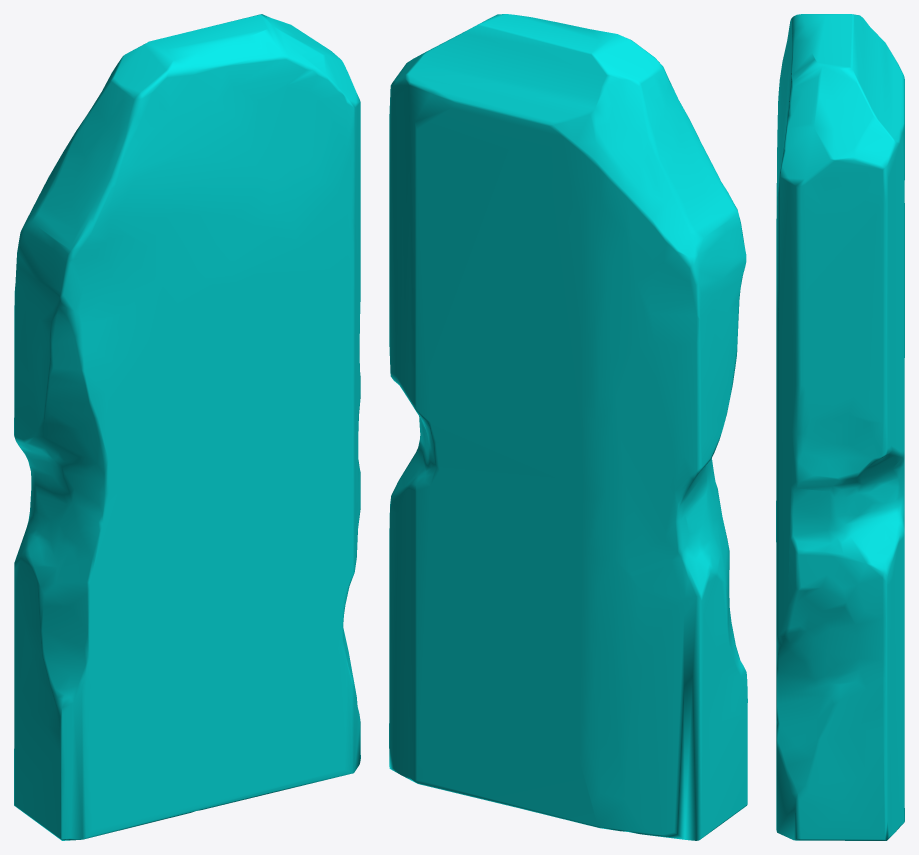
Rendered from SkimmingStone (1).fbx.
3 renders of one model, left to right at view 1: azimuth 30°, elevation 25°; view 2: azimuth 150°, elevation 25°; view 3: azimuth 270°, elevation 25°, orthographic.
Visible parts, largest first — view 1: SkimmingStone; view 2: SkimmingStone; view 3: SkimmingStone.
Boxes of the visible parts, x1=… form: SkimmingStone: x1=14, y1=14, x2=360, y2=840; SkimmingStone: x1=389, y1=14, x2=747, y2=840; SkimmingStone: x1=776, y1=14, x2=904, y2=840.
Bounding box in the file's own units: 2 × 4.65 × 0.734.
